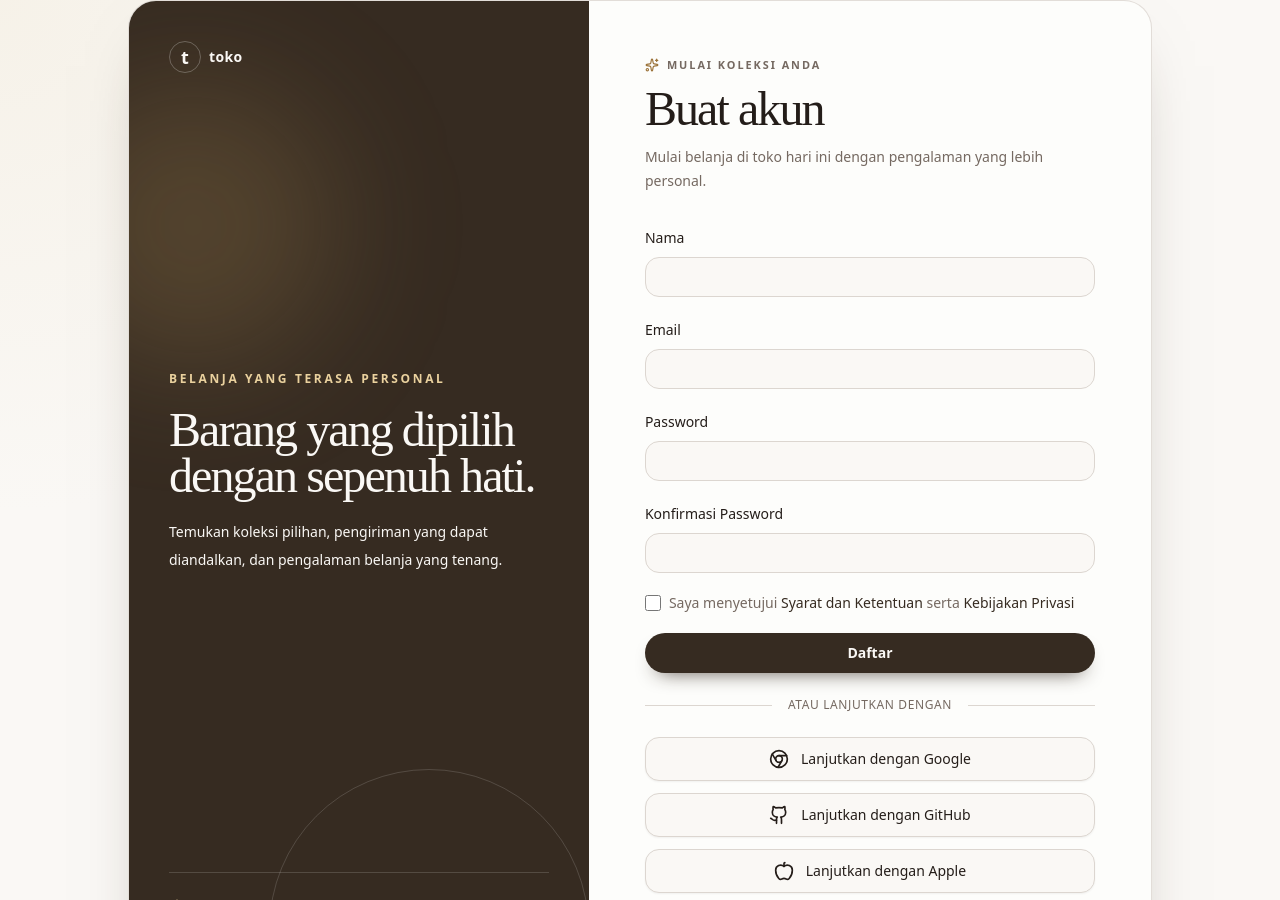
Test case: RegisterPage › requires terms acceptance
Expected: the heading "Buat akun" is shown, [645,82,824,135]
In the field labelled "Nama": (870, 277) [645,257,1095,297], type "John Doe"
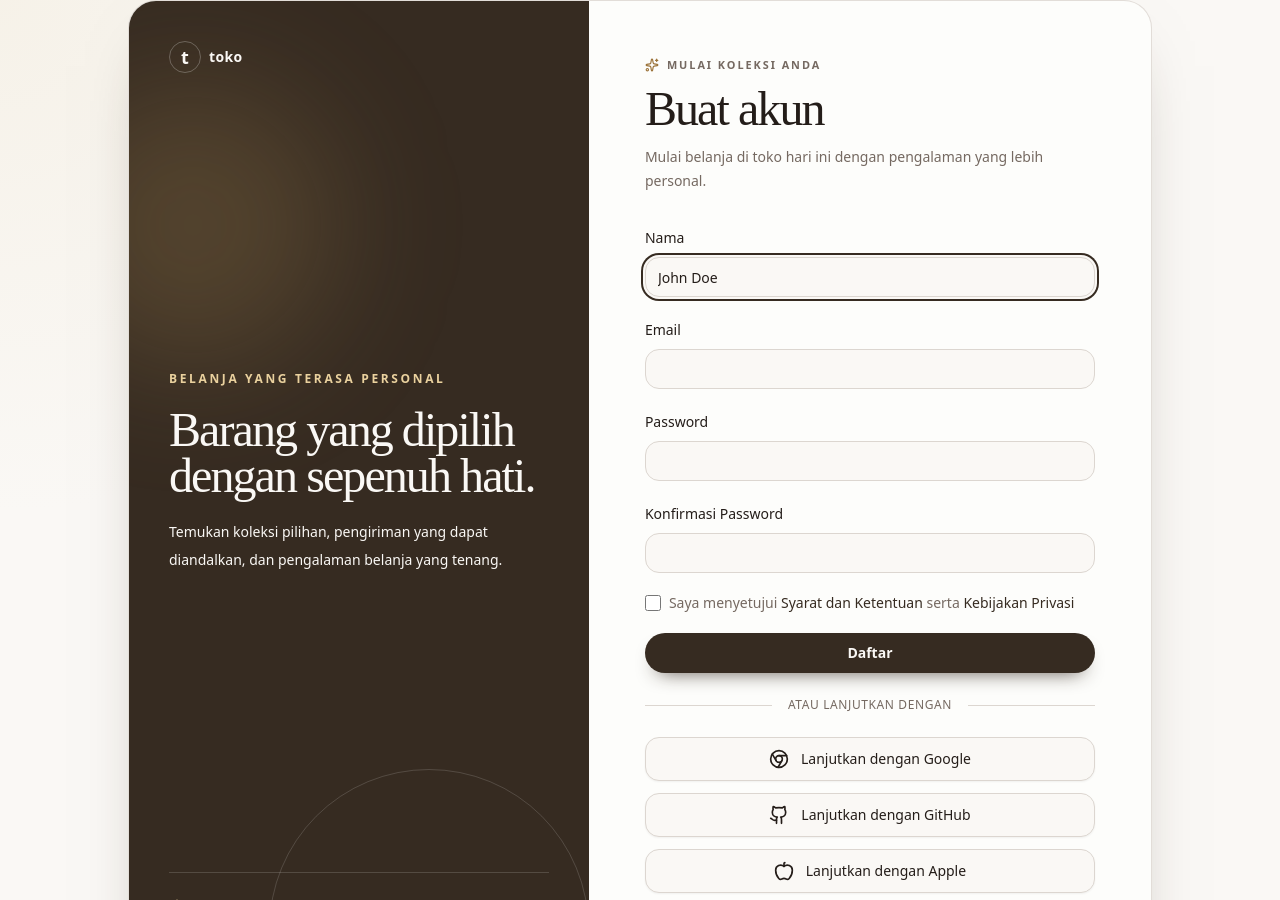
In the field labelled "Email": (870, 369) [645,349,1095,389], type "john@example.com"
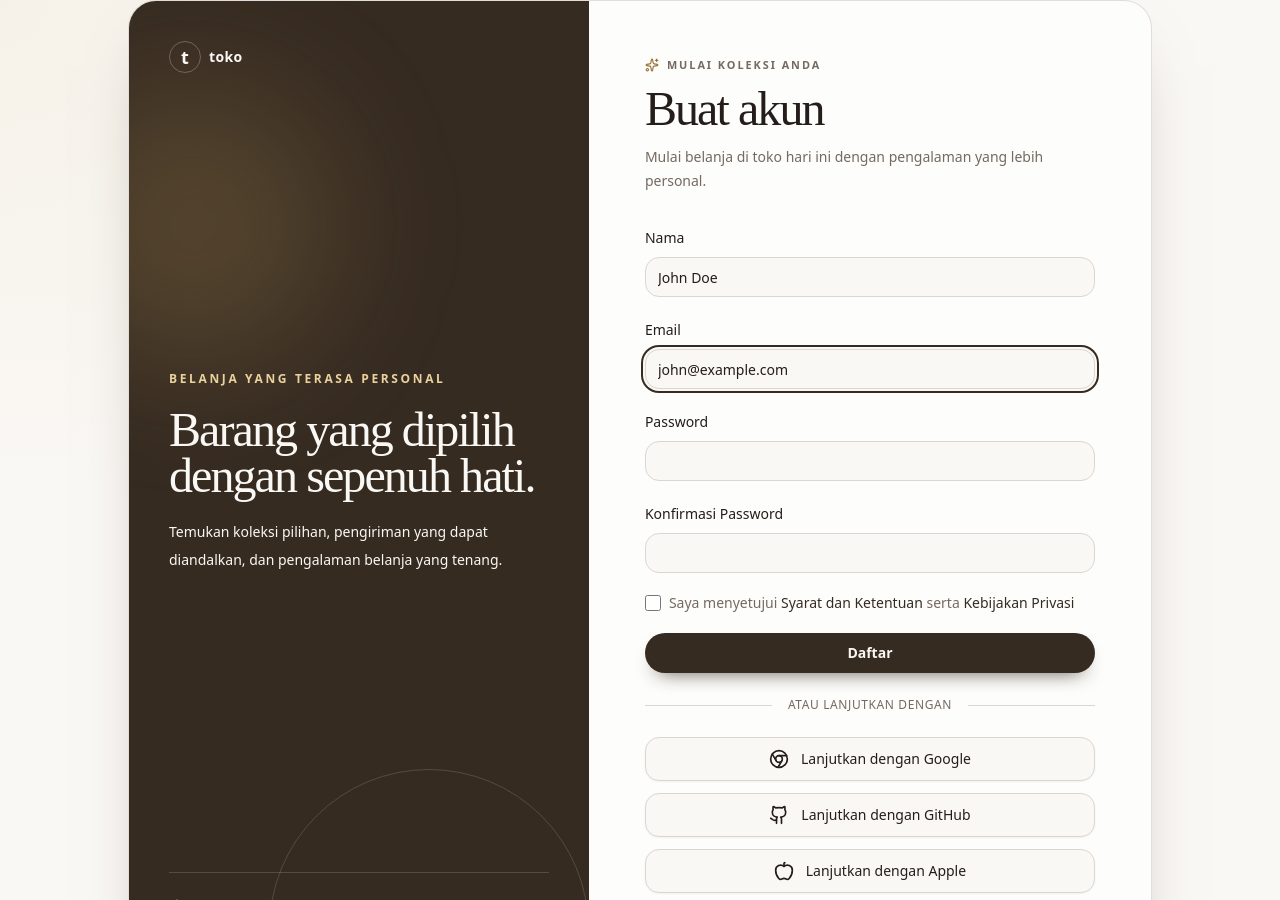
In the password field labelled "Password": (870, 461) [645,441,1095,481], type "SecurePass123"
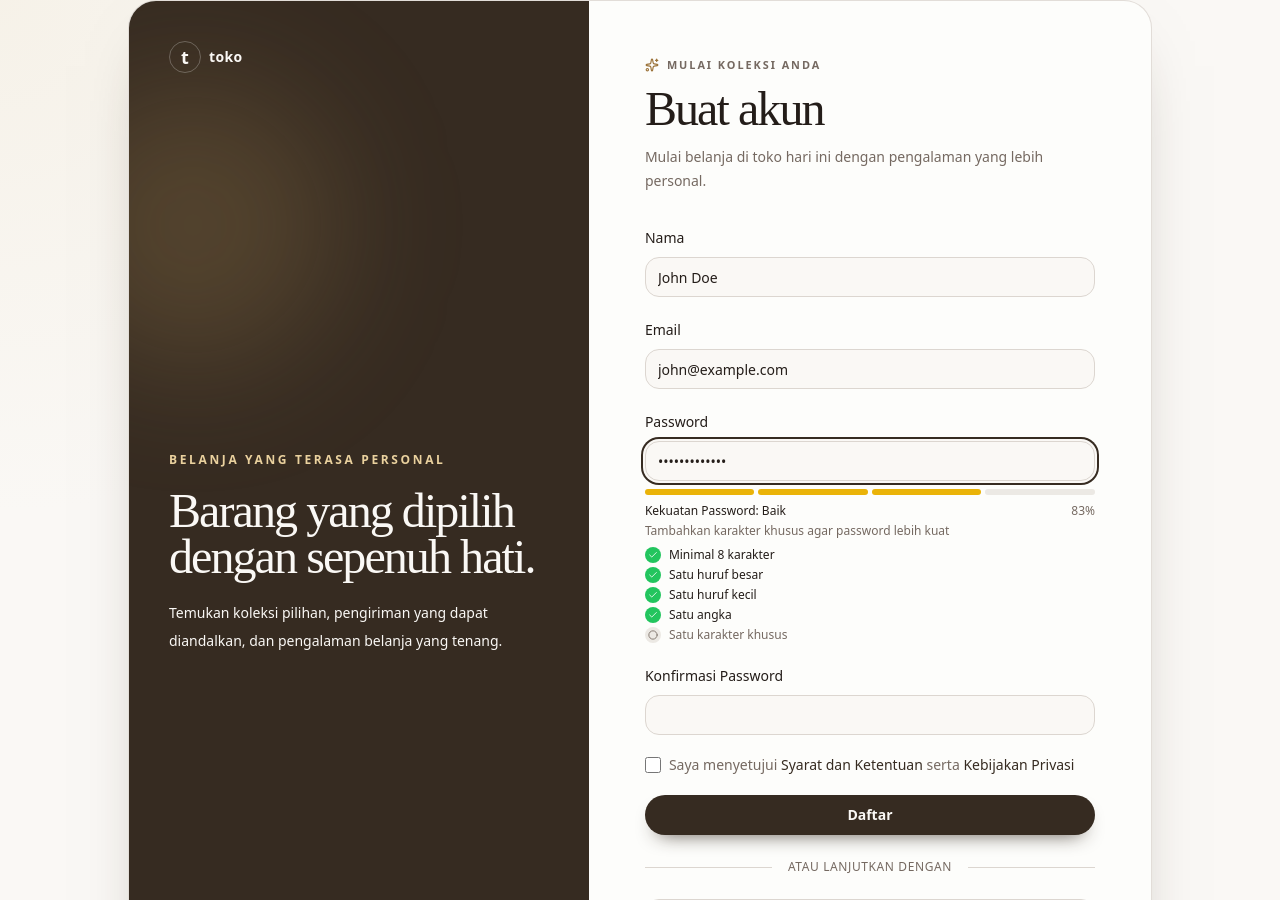
In the password field labelled "Konfirmasi Password": (870, 715) [645,695,1095,735], type "SecurePass123"
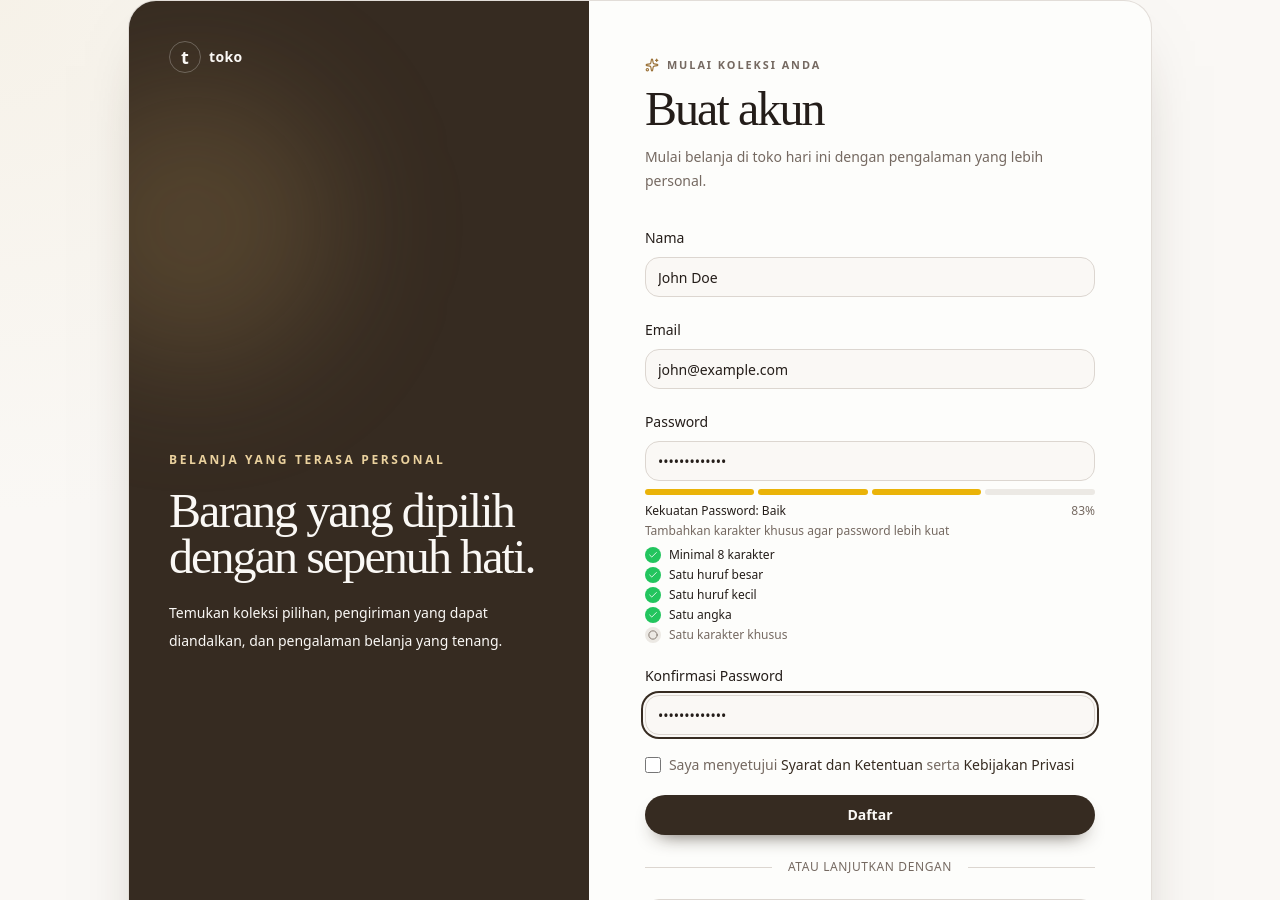
Click the button "Daftar": click(870, 815) [645,795,1095,835]
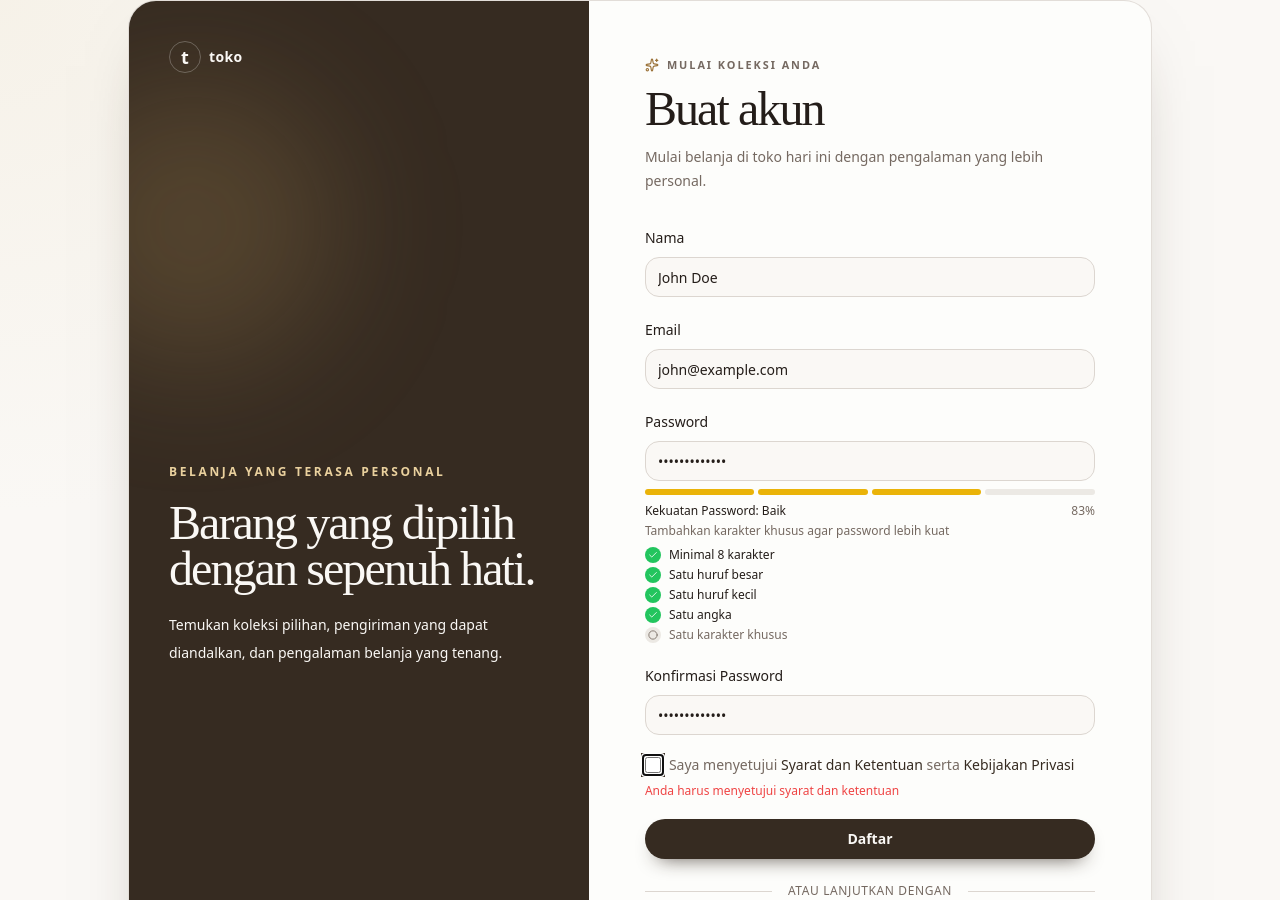
Expected: the text "Anda harus menyetujui syarat dan ketentuan" is shown, [645,782,899,799]
